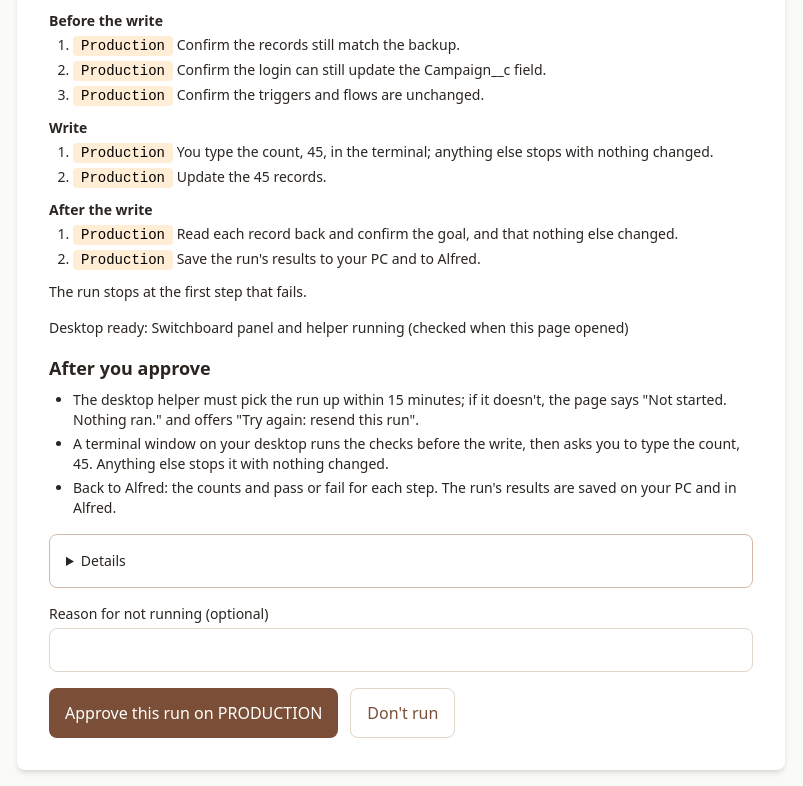
Test: a plain simulation › keeps no marks, its strip and sent text as before
(page scrolled)
Expected: the text with test id "run-desktop" does not show "Checking", [49,318,628,337]
Click the button with test id "run-approve". click: (194, 713)
box: [49,688,338,738]
(page scrolled)
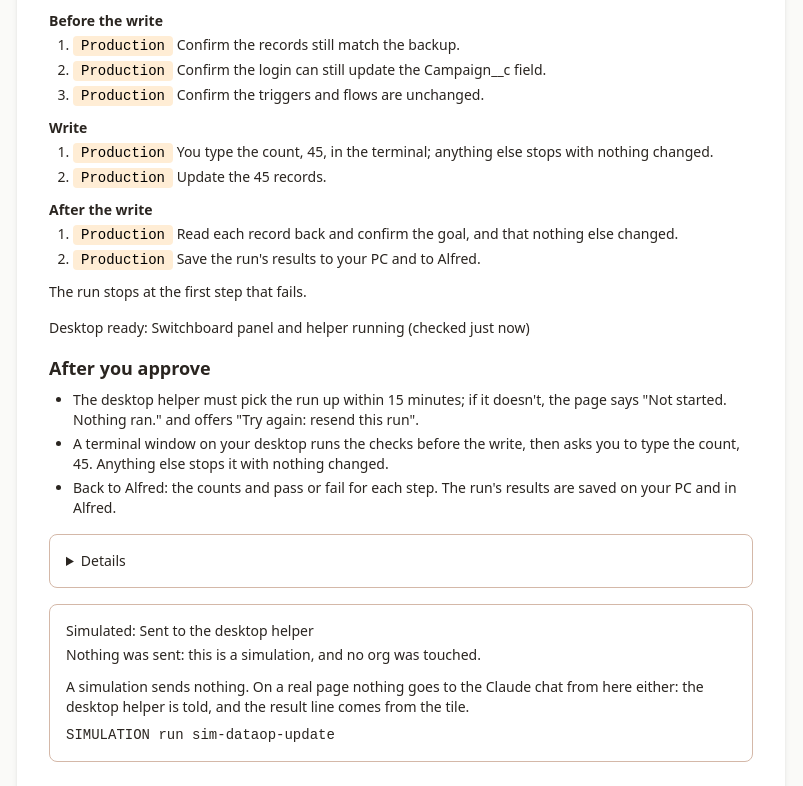
Result: the text with test id "run-sent-text" reads "Nothing was sent: this is a simulation, and no org was touched." at [66,645,481,664]
Result: the element with test id "run-sent" shows "Simulated: Sent to the desktop helper" at [49,604,753,762]
